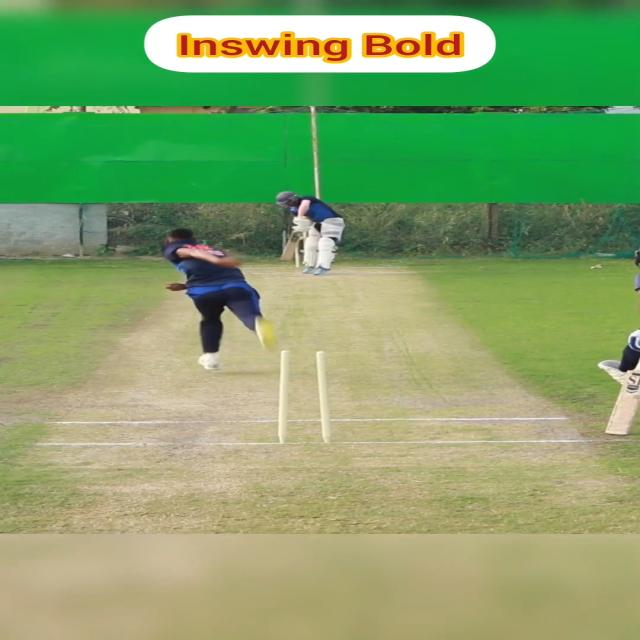stump: (274, 349, 334, 444)
